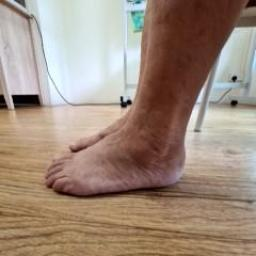Lateral View -Left Foot-: (22, 112, 212, 206)
